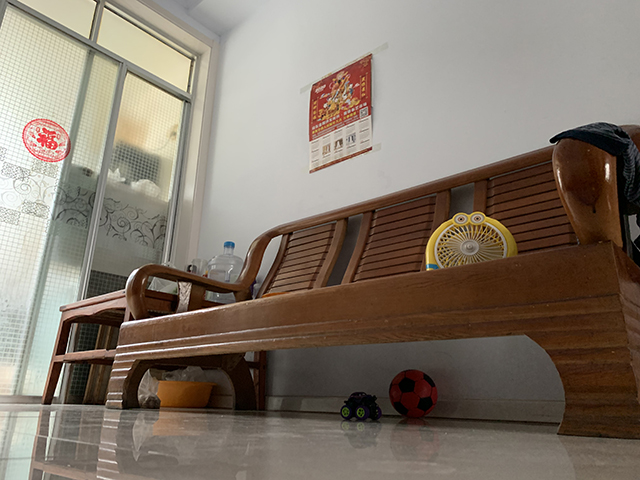sofa: (103, 121, 640, 440)
table: (39, 287, 179, 413)
